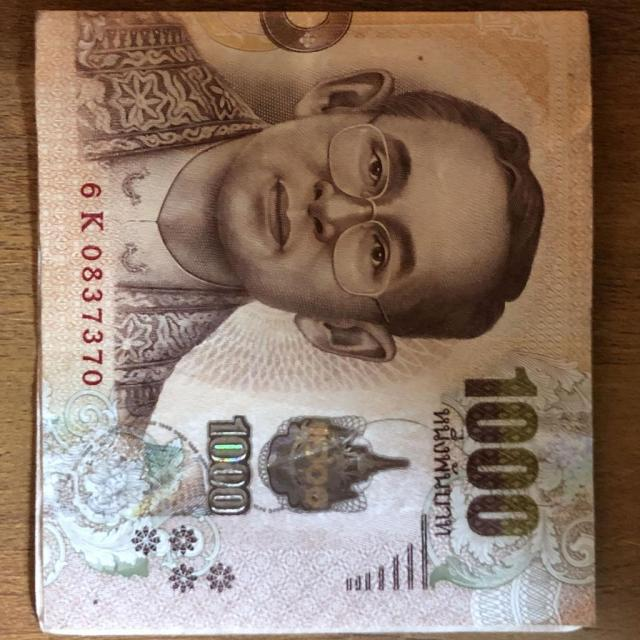THAI1000: (35, 12, 595, 635)
